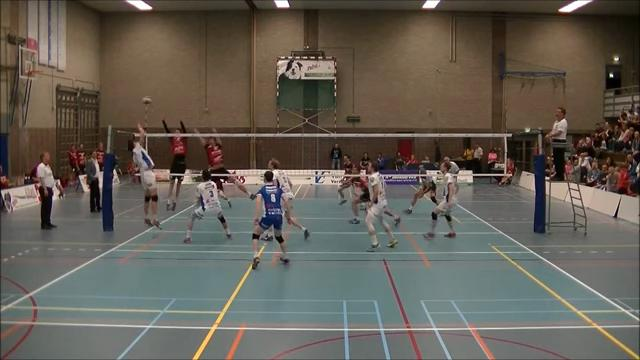Attack: (123, 123, 164, 235)
Block: (194, 127, 257, 209), (158, 117, 185, 217)
Player: (252, 171, 291, 268), (183, 169, 231, 243), (365, 163, 397, 251), (424, 163, 455, 238), (404, 165, 437, 213), (268, 158, 293, 201), (349, 176, 370, 223), (338, 155, 356, 204)
ball: (141, 94, 154, 106)
